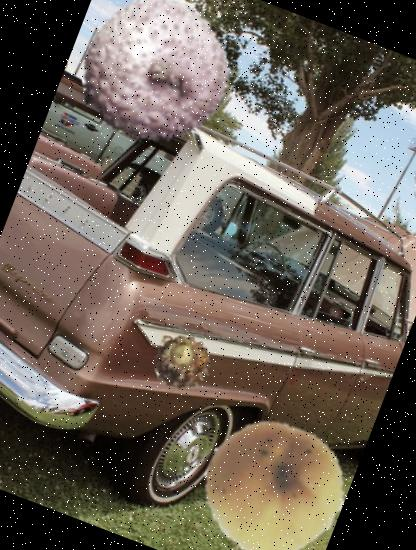Lychee: (58, 0, 252, 167)
Peach: (182, 400, 363, 550)
Pineapple: (145, 326, 221, 402)
